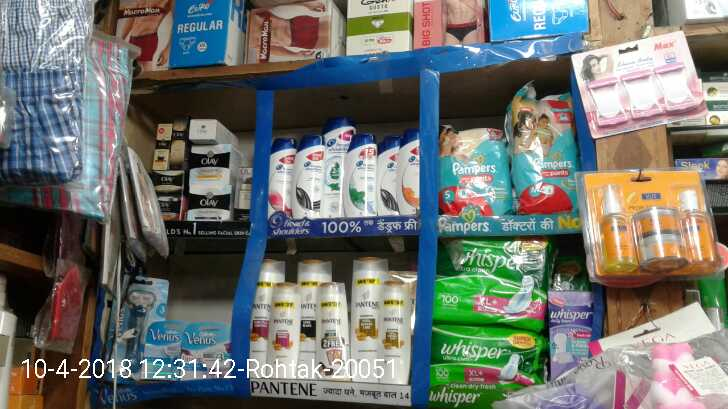venus: (185, 321, 233, 376), (123, 277, 148, 374), (145, 321, 184, 371)
